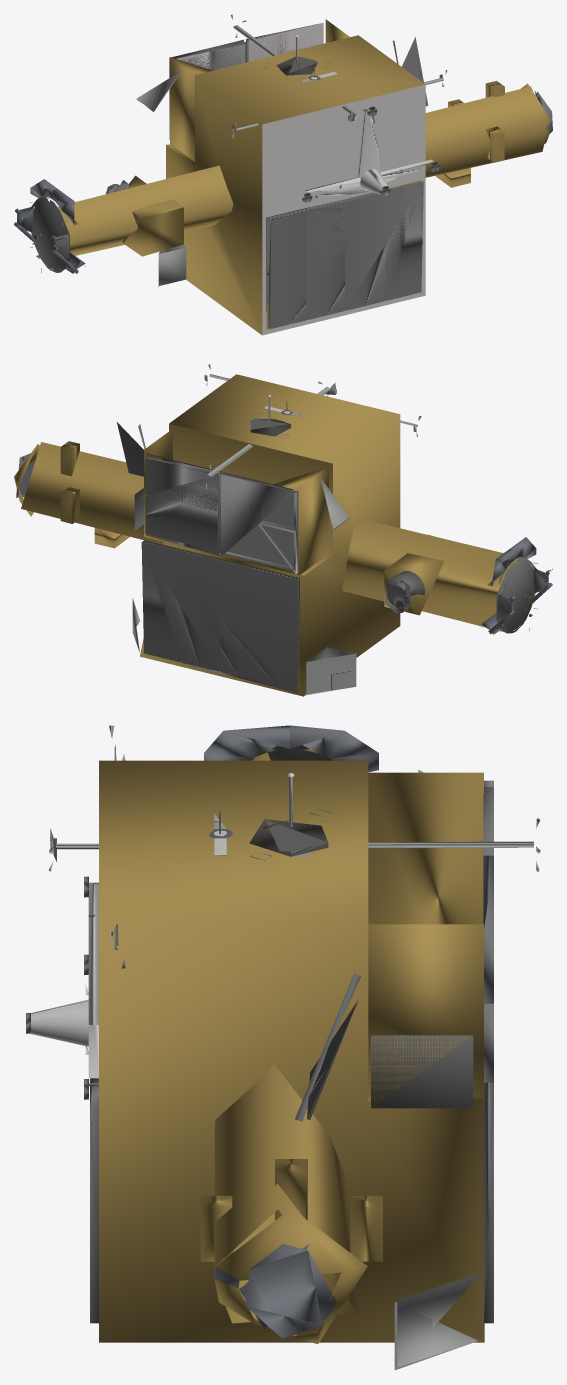
Rendered from spartan-201.glb.
The picture shows the model from 3 angles, top to bottom: view 1: azimuth 30°, elevation 25°; view 2: azimuth 150°, elevation 25°; view 3: azimuth 270°, elevation 25°; orthographic projection. The views are drawn at different scales.
Visible parts, largest first — view 1: Fake; view 2: Fake; view 3: Fake.
Part boxes in pixels (<box>): Fake: <box>14,14,552,335</box>; Fake: <box>14,364,552,696</box>; Fake: <box>26,725,540,1370</box>.
Bounding box in the file's own units: 3.31 × 1.53 × 1.45.
Materials: 1 (1 with a texture image).
